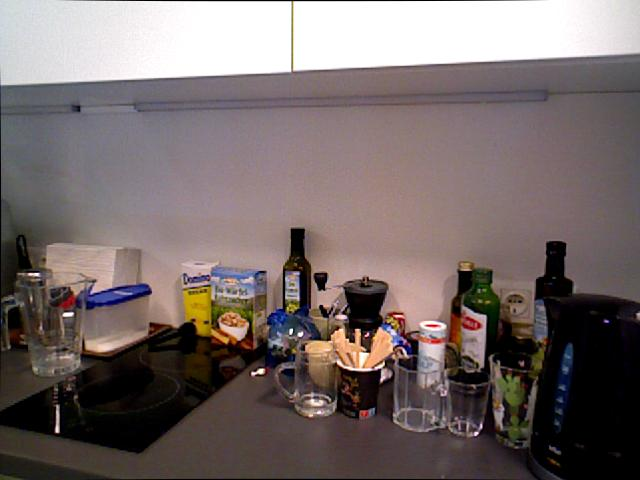bench: (532, 239, 573, 350), (459, 267, 500, 375), (281, 227, 311, 316), (449, 261, 474, 353)
bird: (215, 310, 250, 341)
handbag: (2, 267, 87, 380), (489, 353, 543, 454), (273, 340, 338, 418), (391, 354, 449, 432), (443, 366, 490, 437), (335, 352, 383, 419)
